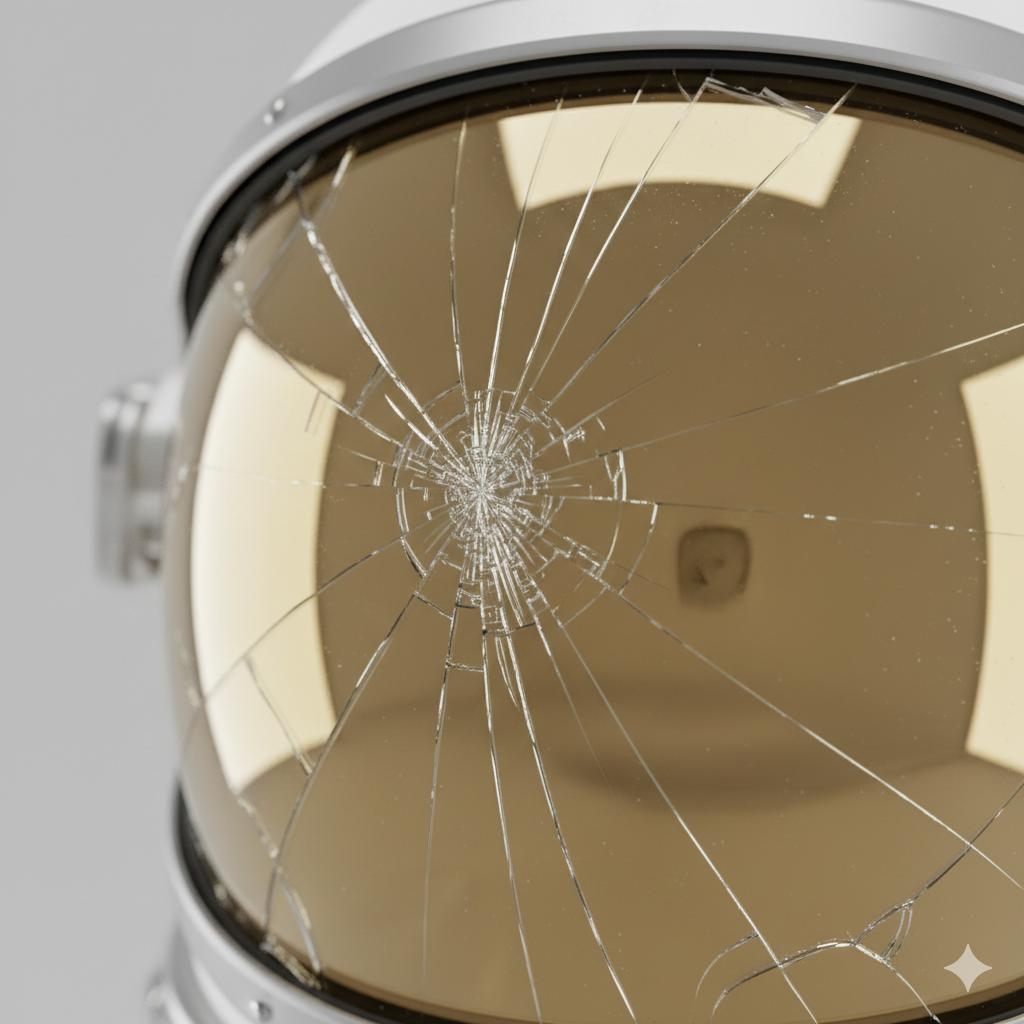crack: (245, 218, 896, 967)
